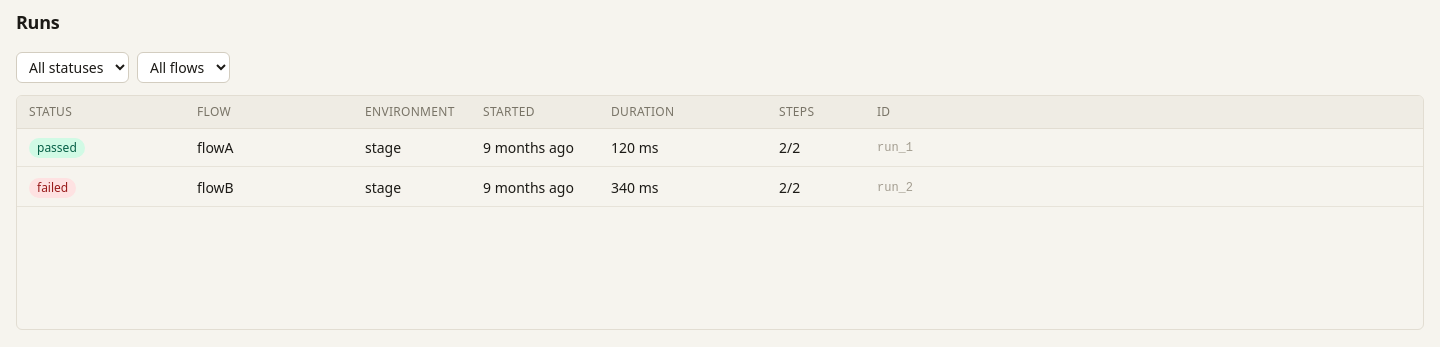
it: RunsPage › filters by status
Expected: the link "flowA" is shown, x1=17 y1=129 x2=1423 y2=167
Select "failed" in the 1st dropdown showing "All statuses" at (72, 68), box x1=16 y1=52 x2=129 y2=83
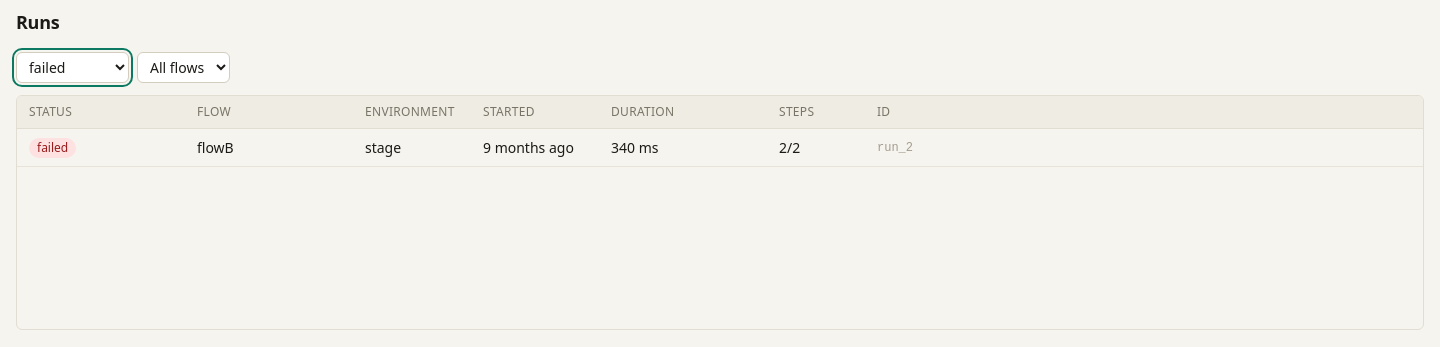
Result: the link "flowA" is gone
Result: the link "flowB" is shown at x1=17 y1=129 x2=1423 y2=167
